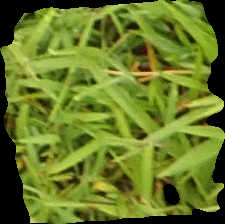grass: (1, 1, 224, 223)
